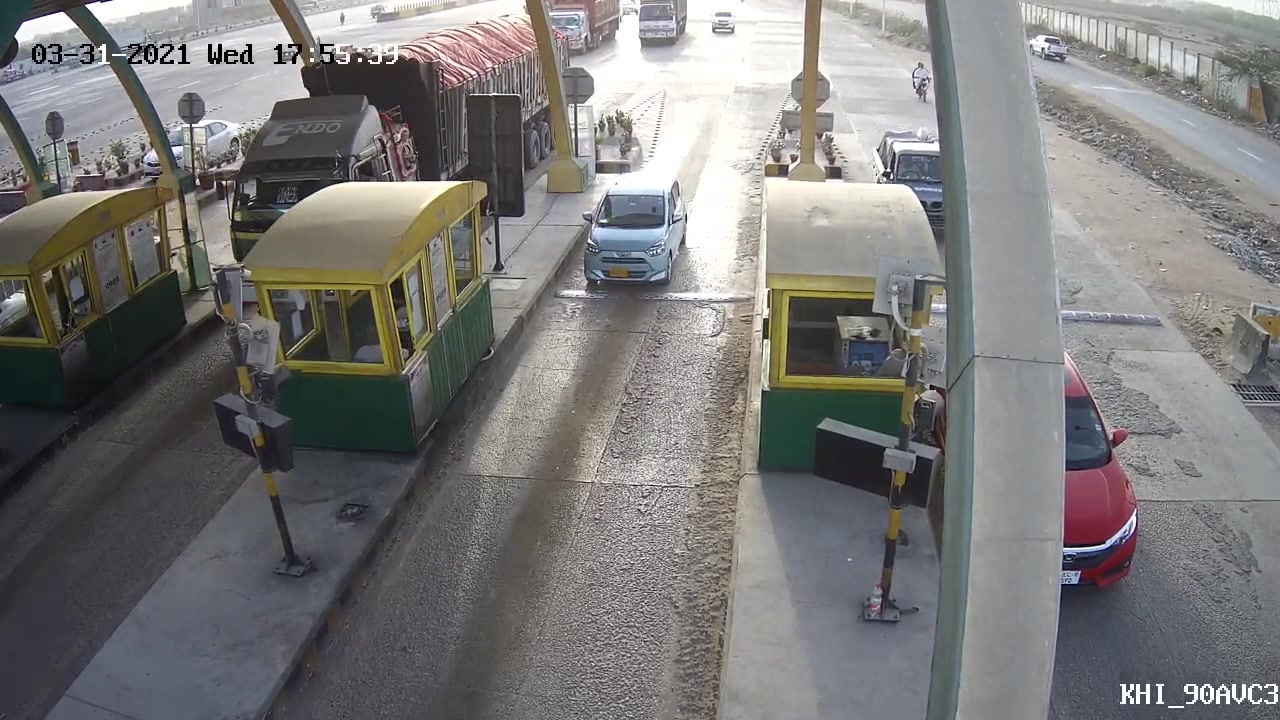F1: (557, 172, 696, 283)
